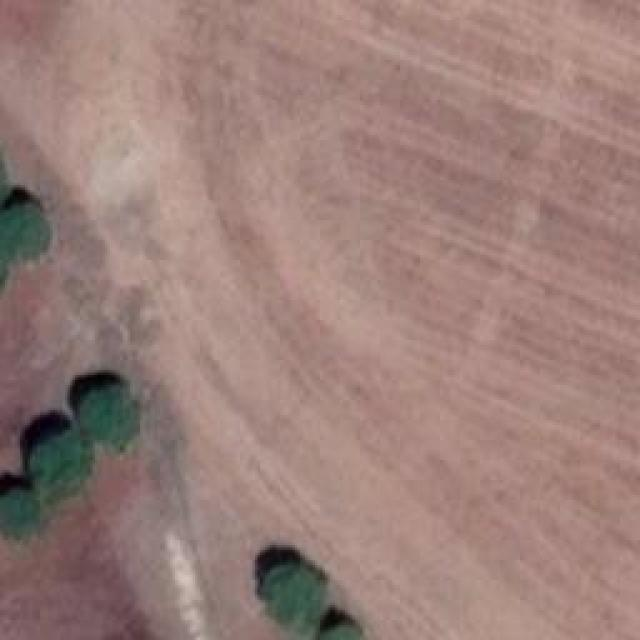Tree: (260, 560, 320, 628), (78, 385, 141, 448), (0, 203, 50, 266), (33, 430, 86, 488), (0, 489, 32, 532), (320, 622, 363, 640)
